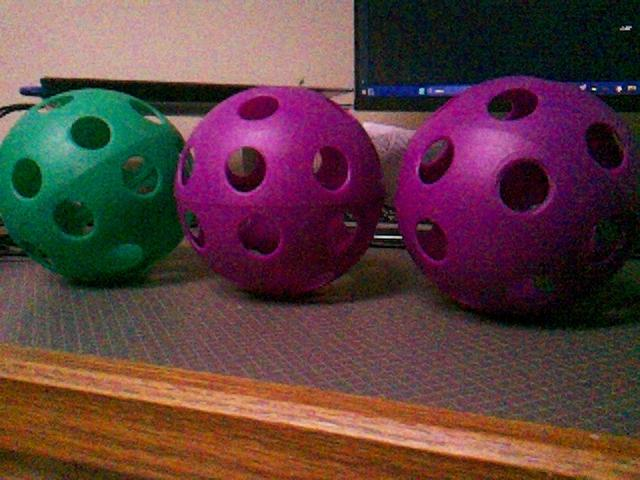Green: (0, 89, 187, 283)
Purple: (392, 79, 640, 315), (173, 88, 383, 297)
